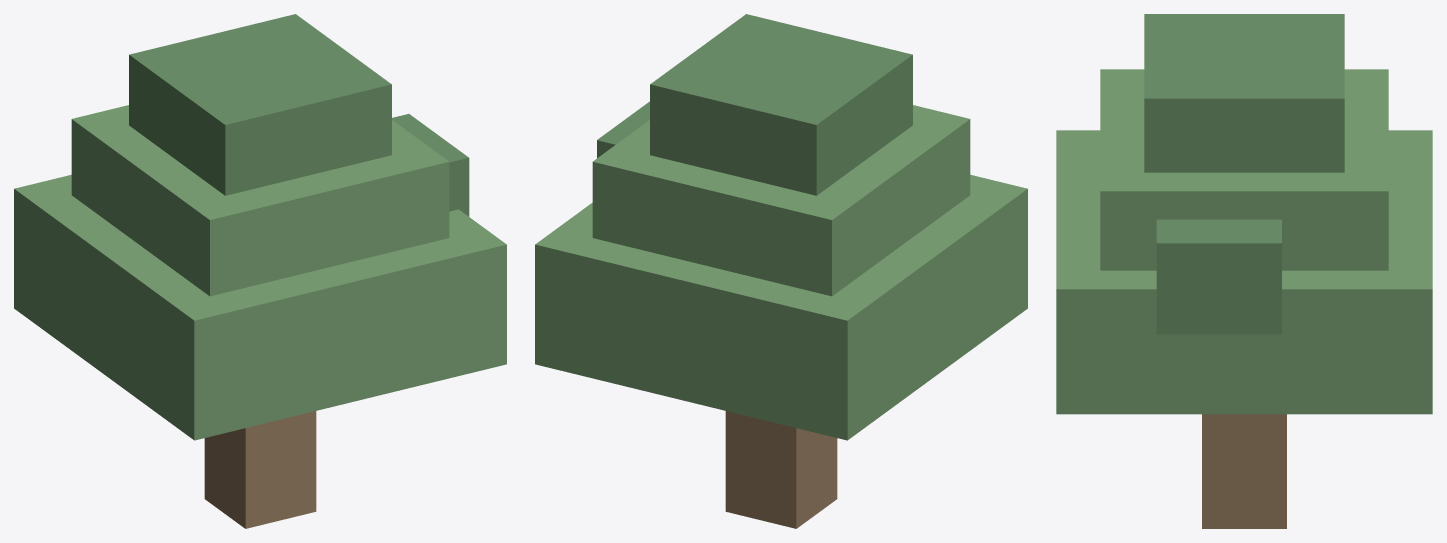
File: tree_oak.glb
3 views of the same model, side by side, from view 1: azimuth 30°, elevation 25°; view 2: azimuth 150°, elevation 25°; view 3: azimuth 270°, elevation 25° (orthographic). The views are drawn at different scales.
Visible parts, largest first — view 1: root; view 2: root; view 3: root.
Part boxes in pixels (box(x1,y1,x2,y2)): root: box(14, 14, 506, 528); root: box(535, 14, 1027, 528); root: box(1056, 14, 1432, 528).
Size of the model in its own units: 1.55 by 2 by 1.5.
